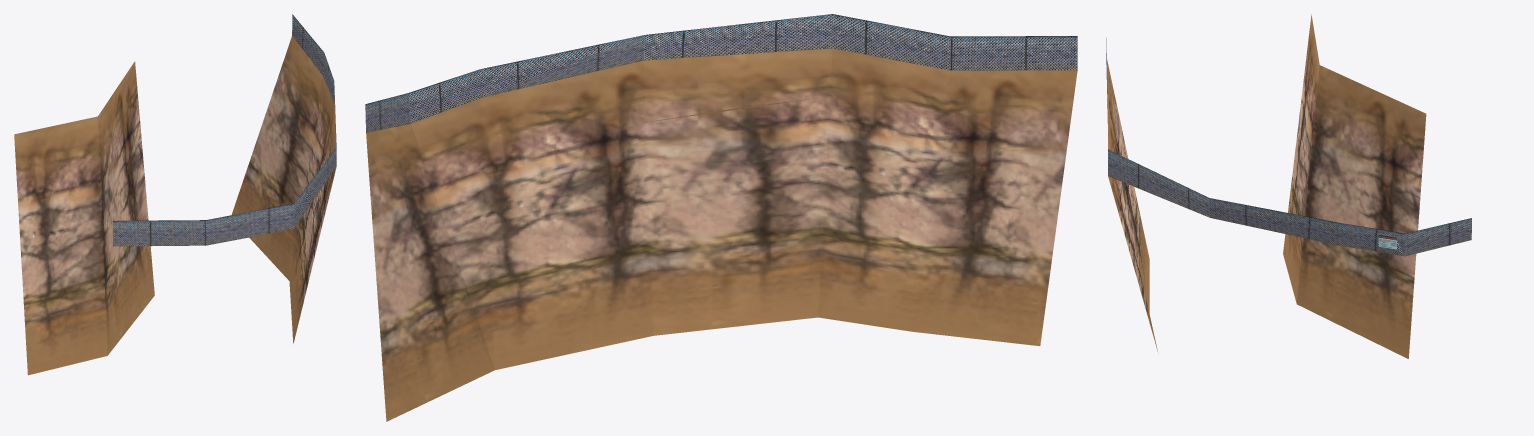
3 views of the same model, side by side, from view 1: azimuth 30°, elevation 25°; view 2: azimuth 150°, elevation 25°; view 3: azimuth 270°, elevation 25° (orthographic). The views are drawn at different scales.
Visible parts, largest first — view 1: Object21; view 2: Object21; view 3: Object21.
Part boxes in pixels (bbox=[...]): Object21: bbox=[14, 14, 336, 375]; Object21: bbox=[365, 14, 1077, 421]; Object21: bbox=[1106, 14, 1471, 358].
Bounding box in the file's own units: 6460 × 4562 × 6264.
5 materials, 5 textured.
